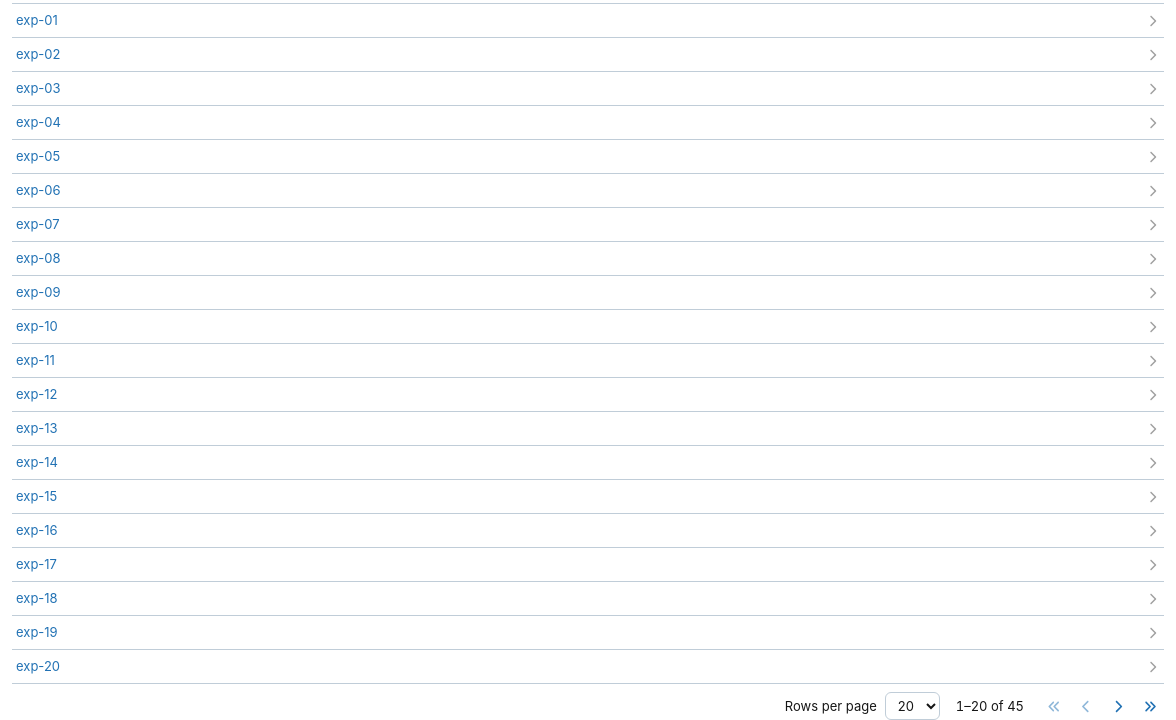
ExperimentsPage server-side pagination › sends the search to the server and goes back to page 1
(page scrolled)
Expected: the link "exp-01" is shown, [16,12,58,28]
Click the button named "Next page" at (1118, 706), box [1104,692,1132,719]
(page scrolled)
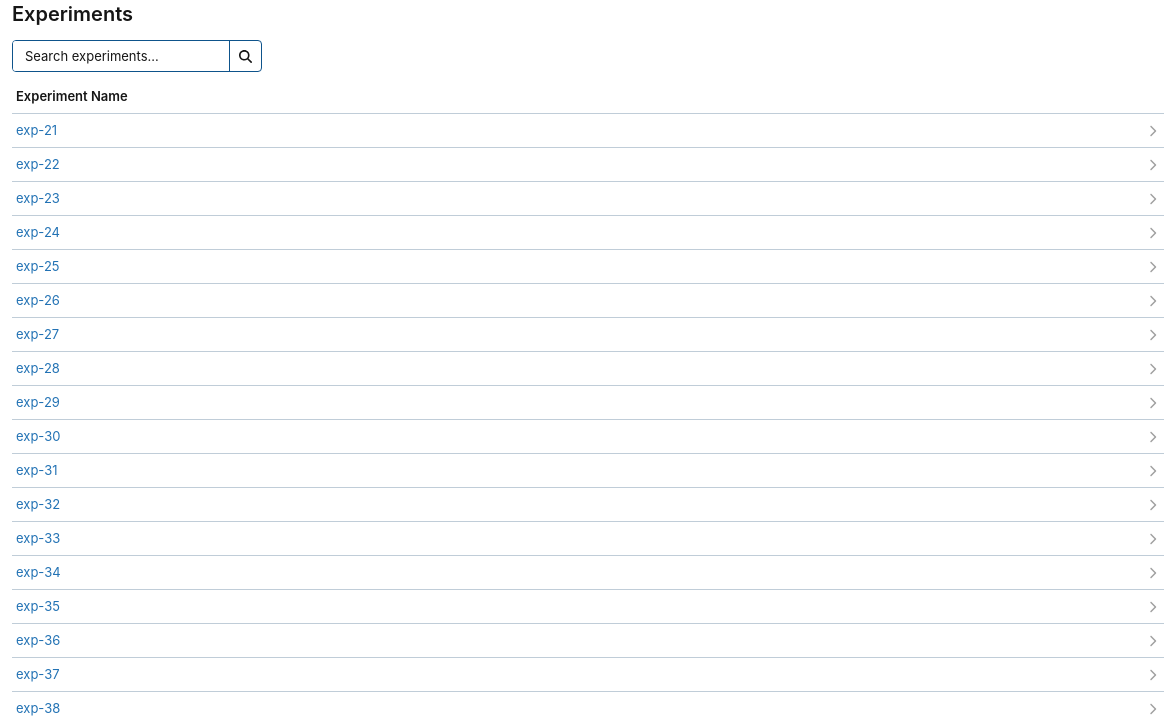
Expected: the link "exp-21" is shown, [16,122,57,138]
Type "exp-3" into the field with placeholder "Search experiments..." at (121, 56), box [13,41,229,71]
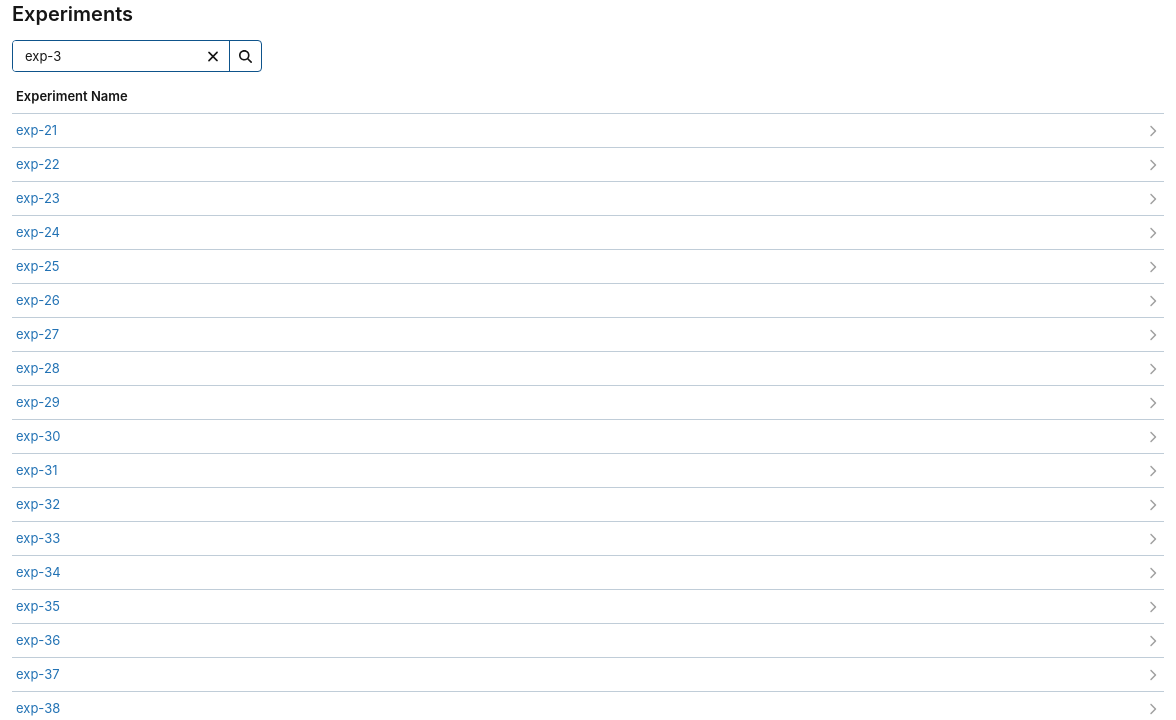
Submit the form from the field with placeholder "Search experiments...", box [13,41,229,71]
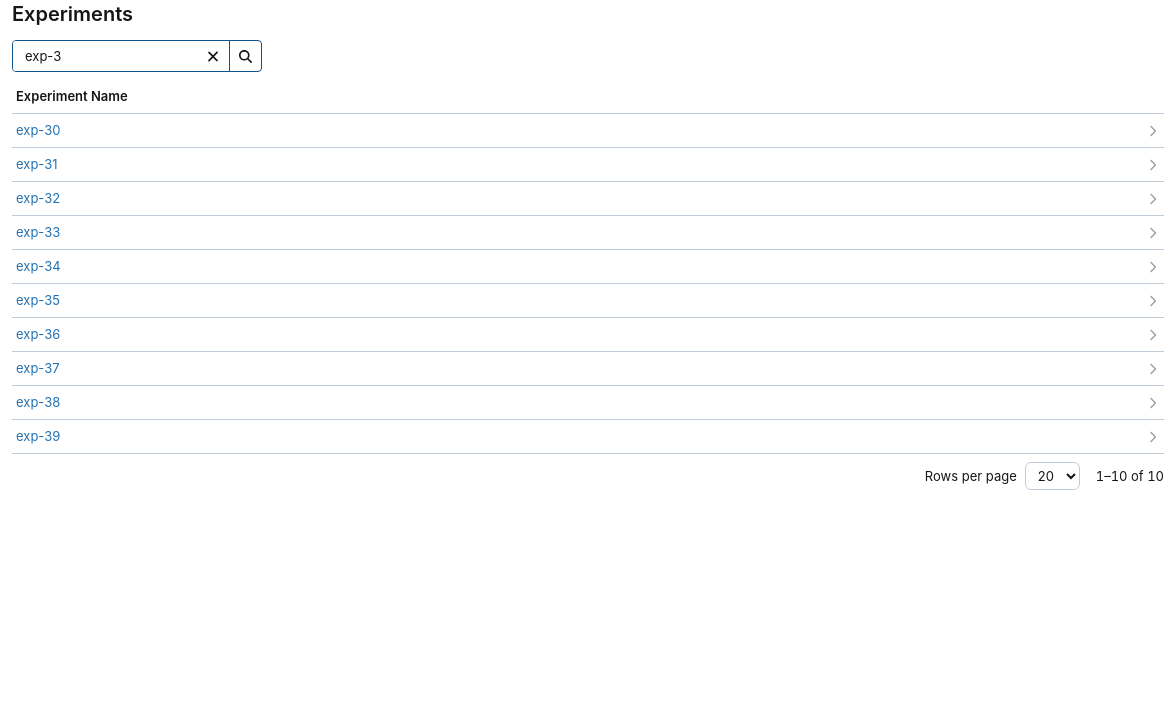
Expected: the link "exp-30" is shown, [16,122,60,138]
Expected: the link "exp-21" is gone
Expected: the text with test id "pagination-range" reads "1–10 of 10", [1096,468,1164,484]
